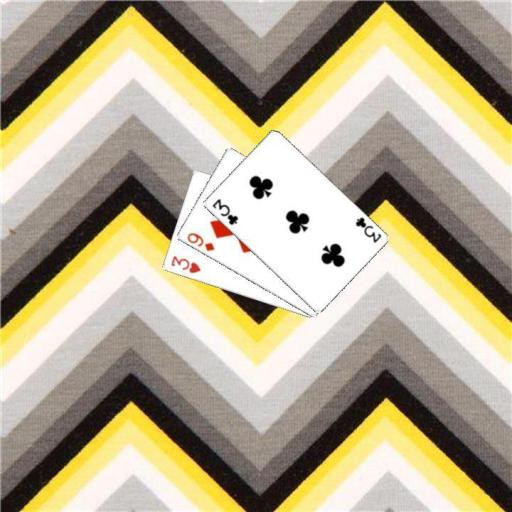card-corner: (208, 195, 240, 227), (352, 214, 383, 245), (167, 252, 202, 274), (184, 230, 216, 252)
